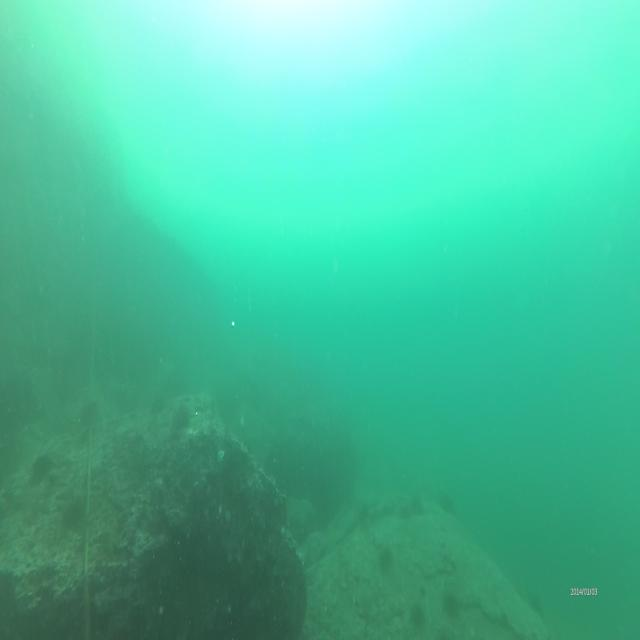echinus: (29, 451, 56, 485), (171, 404, 191, 433), (377, 538, 393, 572), (443, 587, 459, 620), (408, 597, 426, 625)
